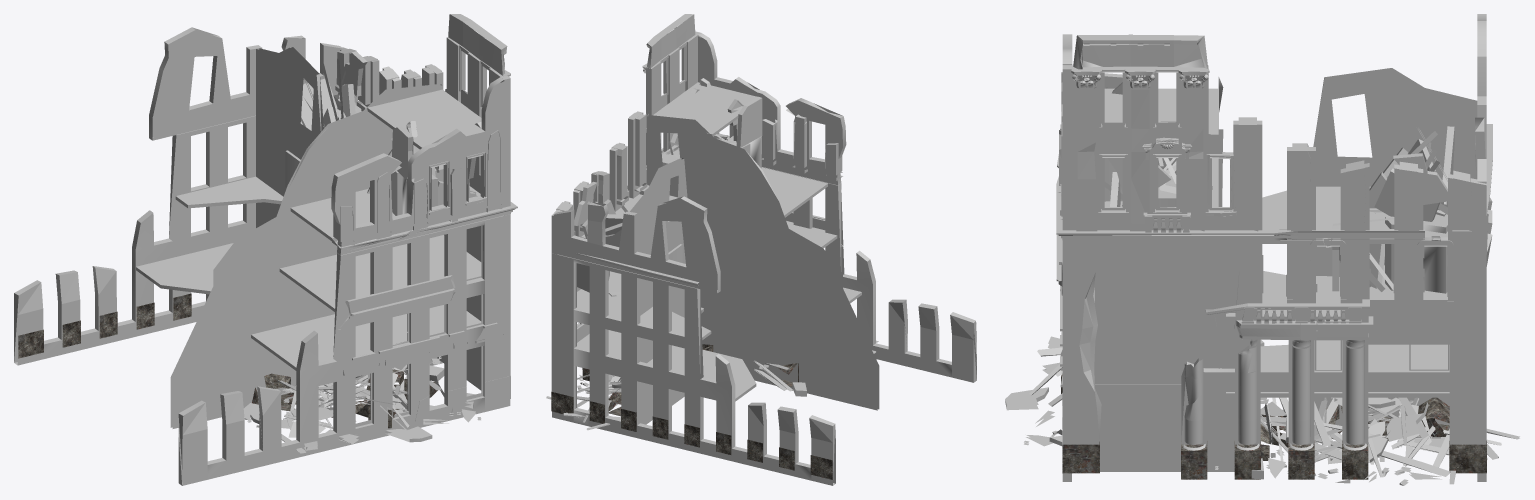
Rendered from buildingnew10.fbx.
3 renders of one model, left to right at view 1: azimuth 30°, elevation 25°; view 2: azimuth 150°, elevation 25°; view 3: azimuth 270°, elevation 25°, orthographic. The views are drawn at different scales.
Parts seen in each view (by area): view 1: LODGroup_1_MainMesh_1_SubMesh_1, LODGroup_1_MainMesh_1_SubMesh_8, LODGroup_1_MainMesh_1_SubMesh_3, LODGroup_1_MainMesh_1_SubMesh_9, LODGroup_1_MainMesh_1_SubMesh_2, LODGroup_1_MainMesh_1_SubMesh_7, LODGroup_1_MainMesh_1_SubMesh_4, LODGroup_1_MainMesh_1_SubMesh_10, LODGroup_1_MainMesh_1_SubMesh_6; view 2: LODGroup_1_MainMesh_1_SubMesh_8, LODGroup_1_MainMesh_1_SubMesh_1, LODGroup_1_MainMesh_1_SubMesh_3, LODGroup_1_MainMesh_1_SubMesh_2, LODGroup_1_MainMesh_1_SubMesh_7, LODGroup_1_MainMesh_1_SubMesh_9, LODGroup_1_MainMesh_1_SubMesh_4; view 3: LODGroup_1_MainMesh_1_SubMesh_1, LODGroup_1_MainMesh_1_SubMesh_8, LODGroup_1_MainMesh_1_SubMesh_10, LODGroup_1_MainMesh_1_SubMesh_9, LODGroup_1_MainMesh_1_SubMesh_3, LODGroup_1_MainMesh_1_SubMesh_2, LODGroup_1_MainMesh_1_SubMesh_7, LODGroup_1_MainMesh_1_SubMesh_4.
Part boxes in pixels (x1,y1,x2,y2): LODGroup_1_MainMesh_1_SubMesh_1: (14,14,510,485); LODGroup_1_MainMesh_1_SubMesh_8: (149,27,510,428); LODGroup_1_MainMesh_1_SubMesh_3: (136,49,488,370); LODGroup_1_MainMesh_1_SubMesh_9: (337,26,517,375); LODGroup_1_MainMesh_1_SubMesh_2: (243,51,481,450); LODGroup_1_MainMesh_1_SubMesh_7: (18,293,438,428); LODGroup_1_MainMesh_1_SubMesh_4: (277,364,444,453); LODGroup_1_MainMesh_1_SubMesh_10: (437,186,481,390); LODGroup_1_MainMesh_1_SubMesh_6: (355,294,483,426); LODGroup_1_MainMesh_1_SubMesh_8: (551,31,879,424); LODGroup_1_MainMesh_1_SubMesh_1: (551,14,976,485); LODGroup_1_MainMesh_1_SubMesh_3: (577,45,861,401); LODGroup_1_MainMesh_1_SubMesh_2: (574,88,878,406); LODGroup_1_MainMesh_1_SubMesh_7: (551,344,832,479); LODGroup_1_MainMesh_1_SubMesh_9: (574,25,843,288); LODGroup_1_MainMesh_1_SubMesh_4: (546,350,875,430); LODGroup_1_MainMesh_1_SubMesh_1: (1058,34,1492,481); LODGroup_1_MainMesh_1_SubMesh_8: (1062,14,1486,460); LODGroup_1_MainMesh_1_SubMesh_10: (1094,240,1238,471); LODGroup_1_MainMesh_1_SubMesh_9: (1056,43,1492,387); LODGroup_1_MainMesh_1_SubMesh_3: (1093,69,1449,397); LODGroup_1_MainMesh_1_SubMesh_2: (1005,73,1454,483); LODGroup_1_MainMesh_1_SubMesh_7: (1061,374,1486,479); LODGroup_1_MainMesh_1_SubMesh_4: (1029,347,1519,484).
Bounding box in the file's own units: 857 × 823 × 861.
